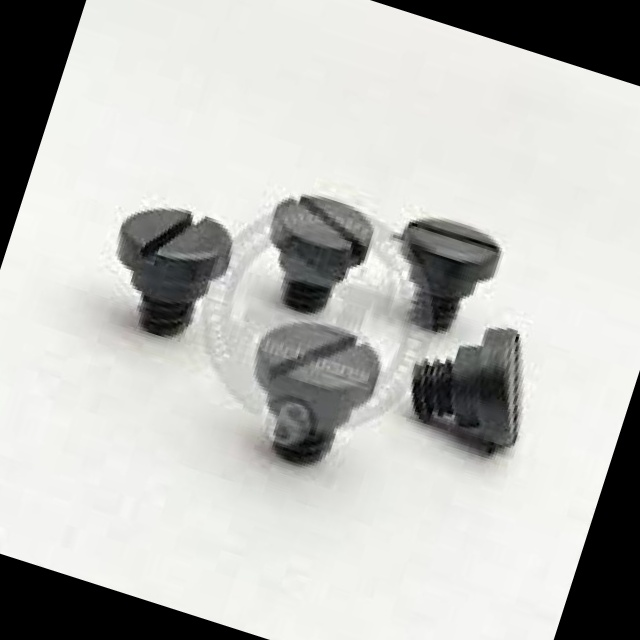duz: (246, 303, 390, 417), (111, 188, 243, 291), (264, 179, 383, 277), (397, 203, 507, 289)
